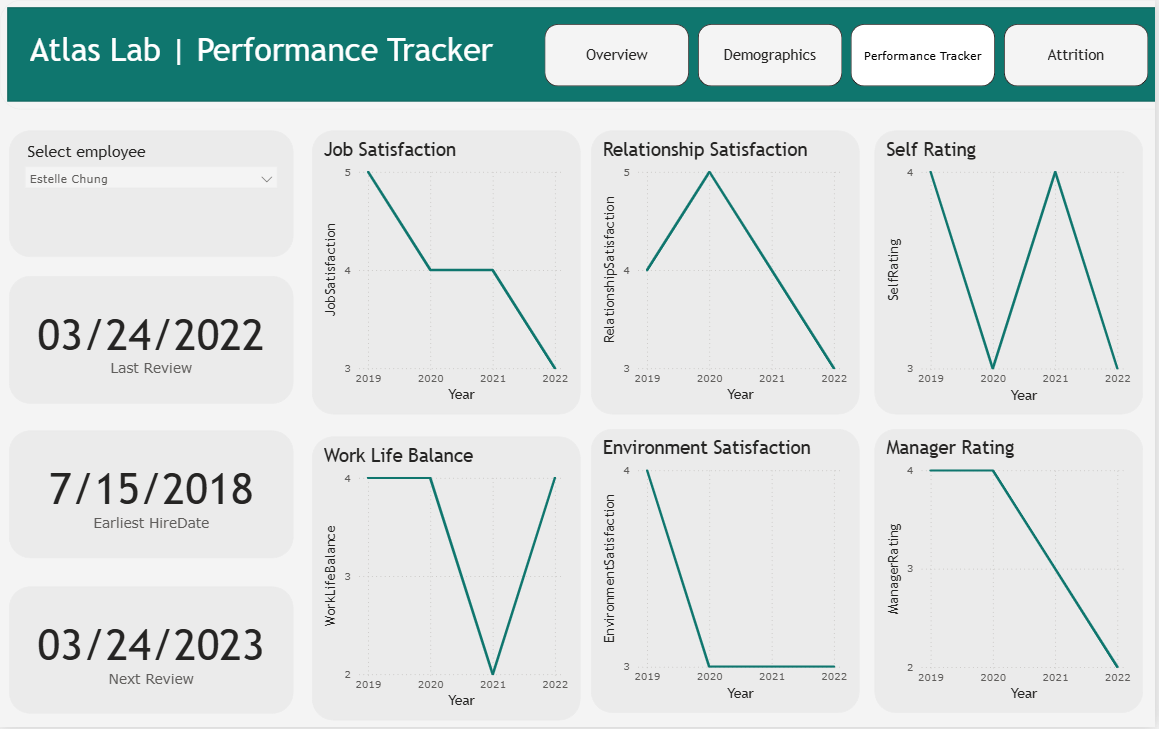

Layout of this report page (visuals, bound fields, positions):
{"tool":"powerbi","page":{"name":"Performance Tracker","canvas":[1350,850],"ordinal":2},"visuals":[{"type":"shape","box":[0,0,1379.7,128.1],"z":0},{"type":"slicer","fields":{"Values":["DimEmployee.FullName"]},"box":[10.2,153.1,332.7,148.3],"z":0,"group":"g3"},{"type":"textbox","box":[30.5,27.1,625.4,111.9],"z":2},{"type":"group","id":"g1","title":"Group 4","box":[10.2,153.1,1326.5,681.6],"z":3},{"type":"pageNavigator","box":[636.1,27.9,706.6,73.8],"z":4},{"type":"card","fields":{"Values":["Min(DimEmployee.HireDate)"]},"box":[10.2,504.3,332.7,149.6],"z":1000,"group":"g4"},{"type":"card","fields":{"Values":["_Measures.NextReviewDate"]},"box":[10.2,685.8,332.7,149],"z":2000,"group":"g4"},{"type":"group","id":"g2","title":"Group 1","box":[365.3,153.1,971.4,681.6],"z":3000,"group":"g1"},{"type":"card","fields":{"Values":["_Measures.LastReviewDate"]},"box":[10.2,322.9,332.7,149.6],"z":3000,"group":"g4"},{"type":"group","id":"g3","title":"Group 3","box":[10.2,153.1,332.7,681.6],"z":4000,"group":"g1"},{"type":"lineChart","title":"Environment Satisfaction","fields":{"Category":["DimDate.Date.Variation.Date Hierarchy.Year"],"Y":["_Measures.EnvironmentSatisfaction"]},"box":[691.4,503.1,314.1,331.8],"z":4000,"group":"g2"},{"type":"lineChart","title":"Relationship Satisfaction ","fields":{"Category":["DimDate.Date.Variation.Date Hierarchy.Year"],"Y":["_Measures.RelationshipSatisfaction"]},"box":[691.4,153.1,314.1,331.8],"z":5000,"group":"g2"},{"type":"lineChart","title":"Work Life Balance ","fields":{"Category":["DimDate.Date.Variation.Date Hierarchy.Year"],"Y":["_Measures.WorkLifeBalance"]},"box":[365.3,511.2,314.1,331.8],"z":6000,"group":"g2"},{"type":"lineChart","title":"Job Satisfaction","fields":{"Category":["DimDate.Date.Variation.Date Hierarchy.Year"],"Y":["_Measures.JobSatisfaction"]},"box":[365.3,153.1,314.1,331.8],"z":7000,"group":"g2"},{"type":"lineChart","title":"Self Rating ","fields":{"Category":["DimDate.Date.Variation.Date Hierarchy.Year"],"Y":["_Measures.SelfRating"]},"box":[1022.6,153.1,314.1,332.1],"z":8000,"group":"g2"},{"type":"lineChart","title":"Manager Rating ","fields":{"Category":["DimDate.Date.Variation.Date Hierarchy.Year"],"Y":["_Measures.ManagerRating"]},"box":[1022.6,503.1,314.1,332.1],"z":9000,"group":"g2"},{"type":"group","id":"g4","title":"Group 2","box":[10.2,322.9,332.7,511.8],"z":12002,"group":"g3"}]}

Visuals, with their boxes in screenshot pixels (x1, y1, x2, y2), scaled from the page's 1350x850 canvas onto the 1159x729 screenshot:
shape: [0, 0, 1158, 110]
slicer - DimEmployee.FullName: [9, 131, 294, 258]
textbox: [26, 23, 563, 119]
"Group 4" group: [9, 131, 1148, 716]
pageNavigator: [546, 24, 1153, 87]
card - Min(DimEmployee.HireDate): [9, 433, 294, 561]
card - _Measures.NextReviewDate: [9, 588, 294, 716]
"Group 1" group: [314, 131, 1148, 716]
card - _Measures.LastReviewDate: [9, 277, 294, 405]
"Group 3" group: [9, 131, 294, 716]
"Environment Satisfaction" lineChart: [594, 431, 863, 716]
"Relationship Satisfaction " lineChart: [594, 131, 863, 416]
"Work Life Balance " lineChart: [314, 438, 583, 723]
"Job Satisfaction" lineChart: [314, 131, 583, 416]
"Self Rating " lineChart: [878, 131, 1148, 416]
"Manager Rating " lineChart: [878, 431, 1148, 716]
"Group 2" group: [9, 277, 294, 716]
